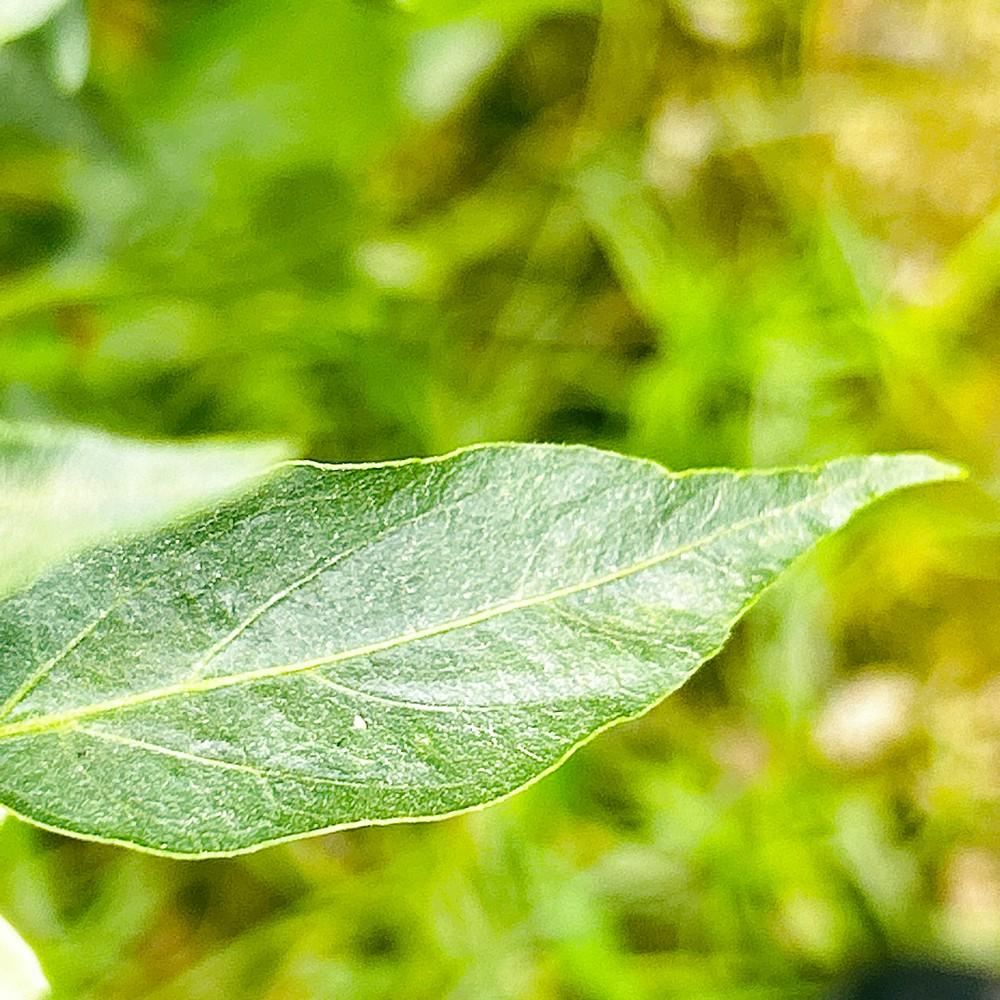Daun Cabai Sehat: (0, 437, 971, 861)
